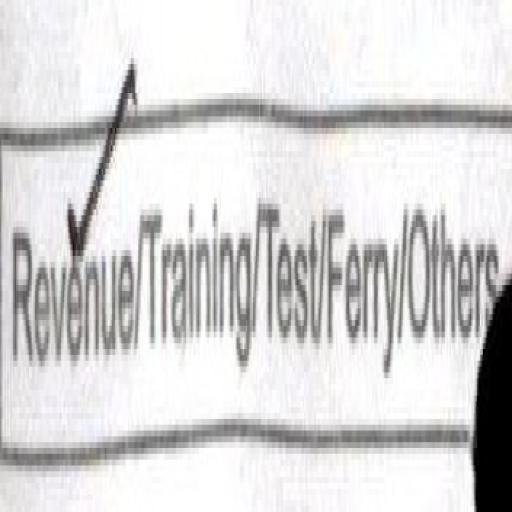check: (4, 91, 137, 460)
